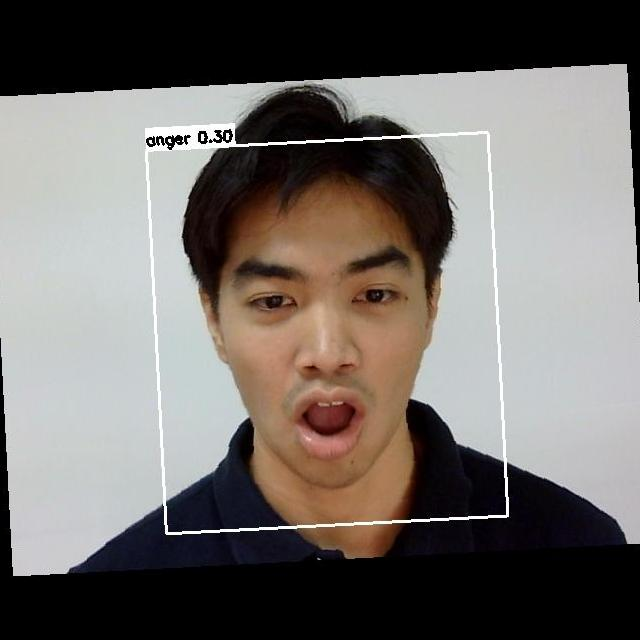Surprised: (201, 228, 445, 467)
